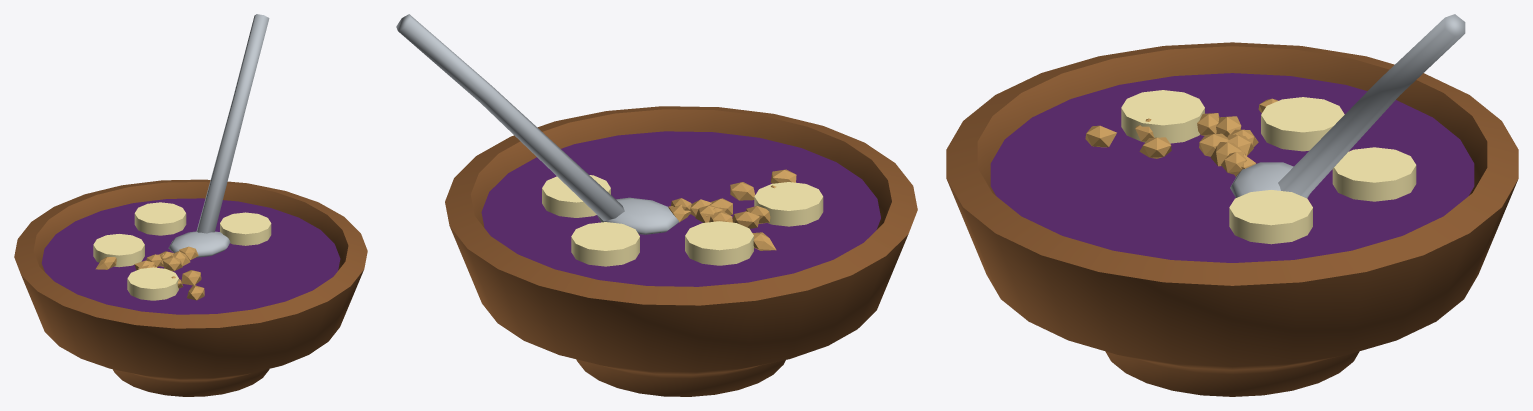
File: acai.glb
3 views of the same model, side by side, from view 1: azimuth 30°, elevation 25°; view 2: azimuth 150°, elevation 25°; view 3: azimuth 270°, elevation 25° (orthographic). The views are drawn at different scales.
Visible parts, largest first — view 1: acai; view 2: acai; view 3: acai.
Part boxes in pixels (x1=…): acai: x1=14, y1=14, x2=367, y2=396; acai: x1=396, y1=14, x2=917, y2=396; acai: x1=946, y1=14, x2=1518, y2=396.
Bounding box in the file's own units: 0.22 × 0.183 × 0.2184.
